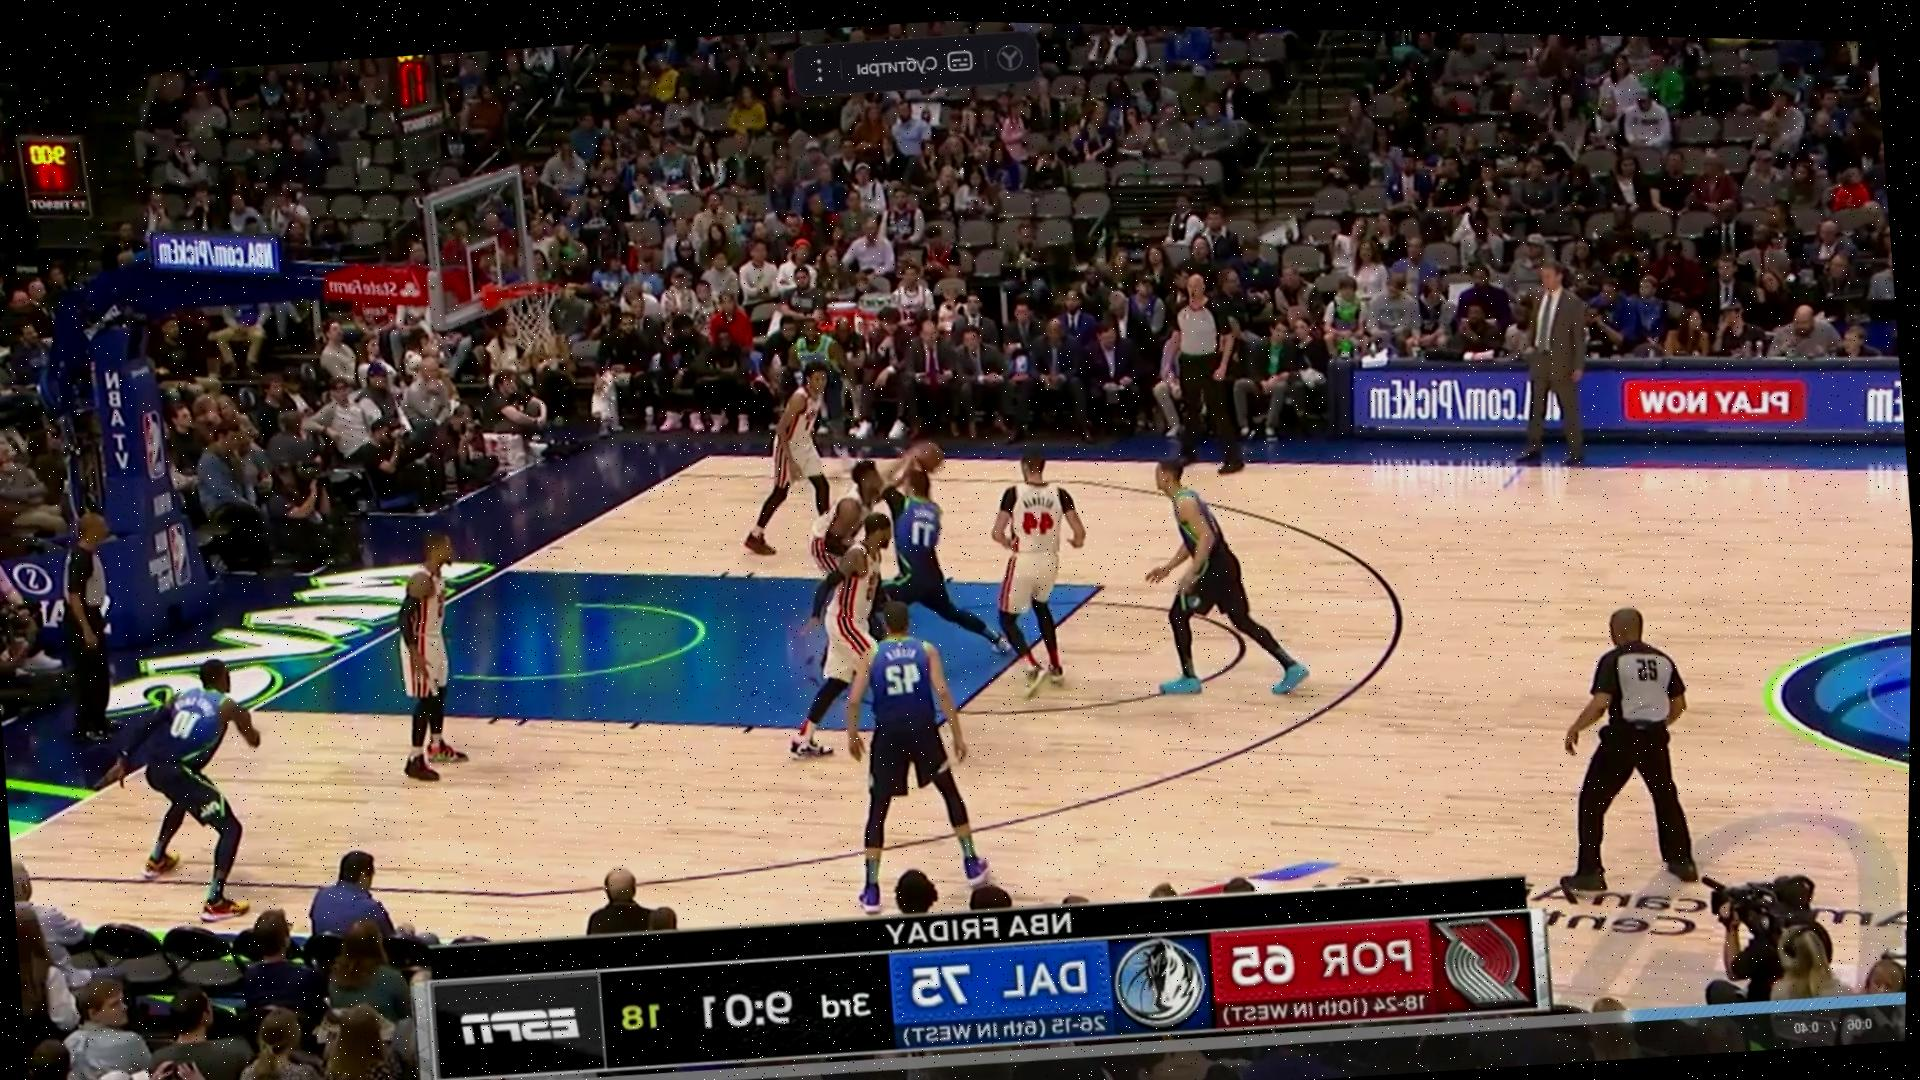foul: (787, 400, 981, 659)
